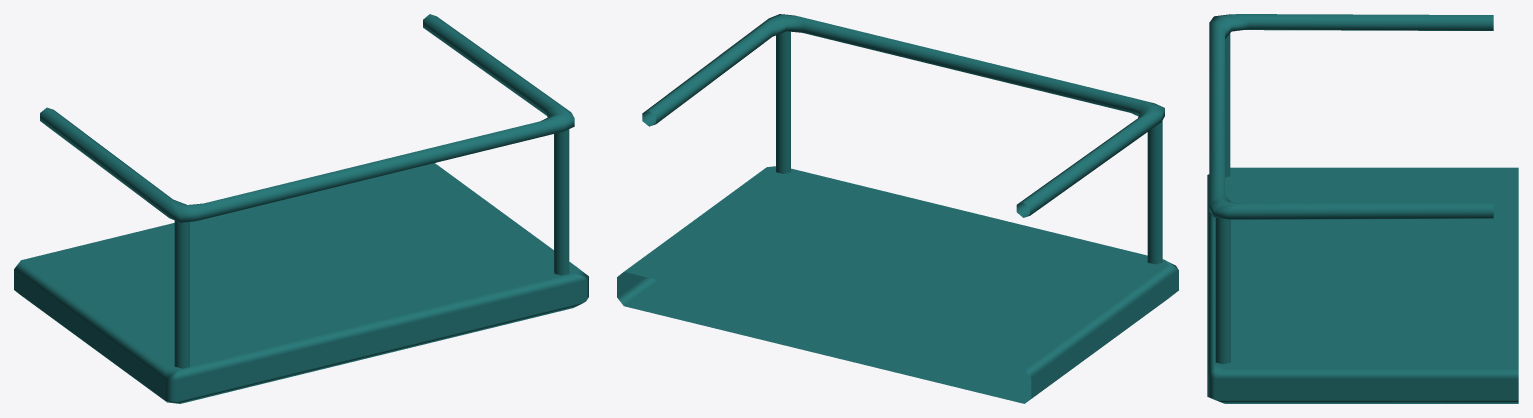
The model's file is SM_Balcony.fbx.
The picture shows the model from 3 angles, left to right: view 1: azimuth 30°, elevation 25°; view 2: azimuth 150°, elevation 25°; view 3: azimuth 270°, elevation 25°; orthographic projection. The views are drawn at different scales.
Visible parts, largest first — view 1: Object023; view 2: Object023; view 3: Object023.
Boxes of the visible parts, x1,y1,x2,y2 form: Object023: [14, 14, 588, 403]; Object023: [617, 14, 1178, 403]; Object023: [1207, 14, 1518, 403].
Size of the model in its own units: 268 by 117 by 170.
